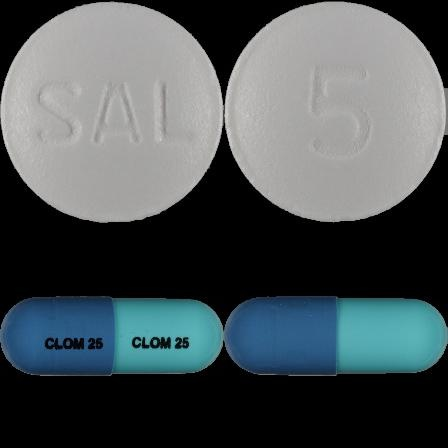68151-3015: (0, 0, 224, 224)
